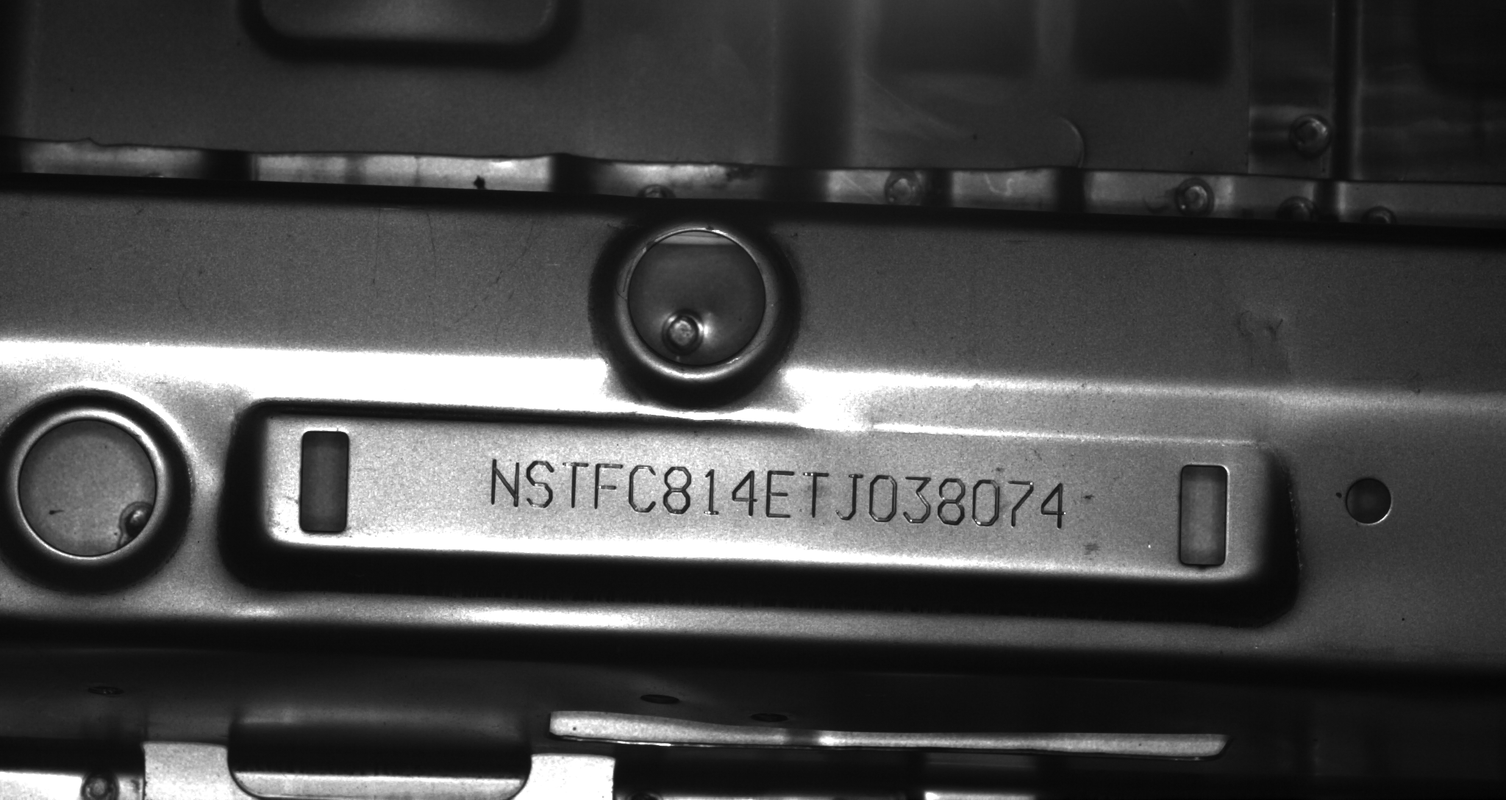qy_vin_plate: (257, 413, 1275, 580)
